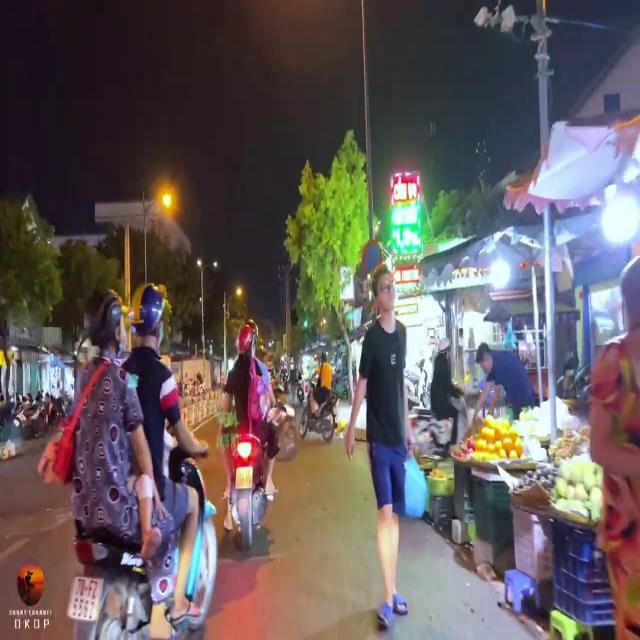bien_trang: (72, 565, 102, 620)
